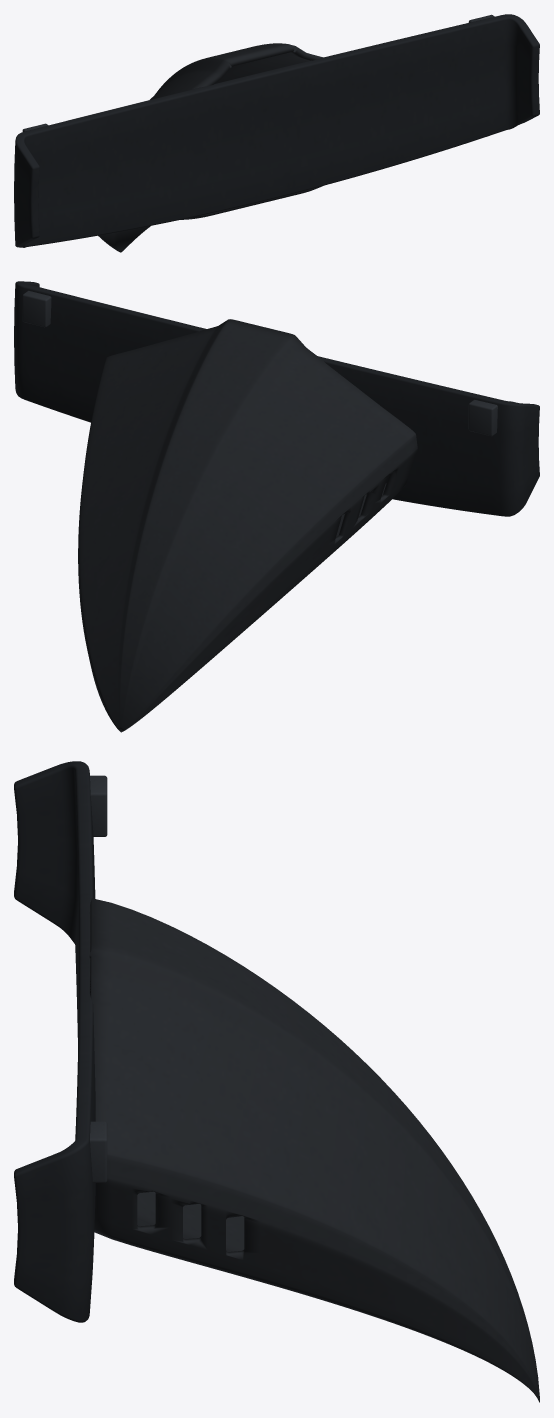
Rendered from black_half_plague_doctor.obj.
3 views of the same model, one above another, from view 1: azimuth 30°, elevation 25°; view 2: azimuth 150°, elevation 25°; view 3: azimuth 270°, elevation 25° (orthographic). The views are drawn at different scales.
Parts seen in each view (by area): view 1: Compact_lower-face_cheek_housing, Curved_beak_with_broad_sculpted_centre_ridge; view 2: Curved_beak_with_broad_sculpted_centre_ridge, Compact_lower-face_cheek_housing, Left_square_black_cheek_clip, Right_square_black_cheek_clip; view 3: Curved_beak_with_broad_sculpted_centre_ridge, Compact_lower-face_cheek_housing, Right_square_black_cheek_clip, Left_square_black_cheek_clip.
Boxes of the visible parts, <box> form: Compact_lower-face_cheek_housing: <box>14,14,539,247</box>; Curved_beak_with_broad_sculpted_centre_ridge: <box>98,43,323,252</box>; Curved_beak_with_broad_sculpted_centre_ridge: <box>78,319,417,732</box>; Compact_lower-face_cheek_housing: <box>14,281,539,516</box>; Left_square_black_cheek_clip: <box>468,399,497,436</box>; Right_square_black_cheek_clip: <box>22,290,51,327</box>; Curved_beak_with_broad_sculpted_centre_ridge: <box>89,898,539,1402</box>; Compact_lower-face_cheek_housing: <box>14,761,95,1322</box>; Right_square_black_cheek_clip: <box>90,1121,107,1182</box>; Left_square_black_cheek_clip: <box>90,775,107,836</box>.
Size of the model in its own units: 0.5225 by 0.2975 by 0.2948.
